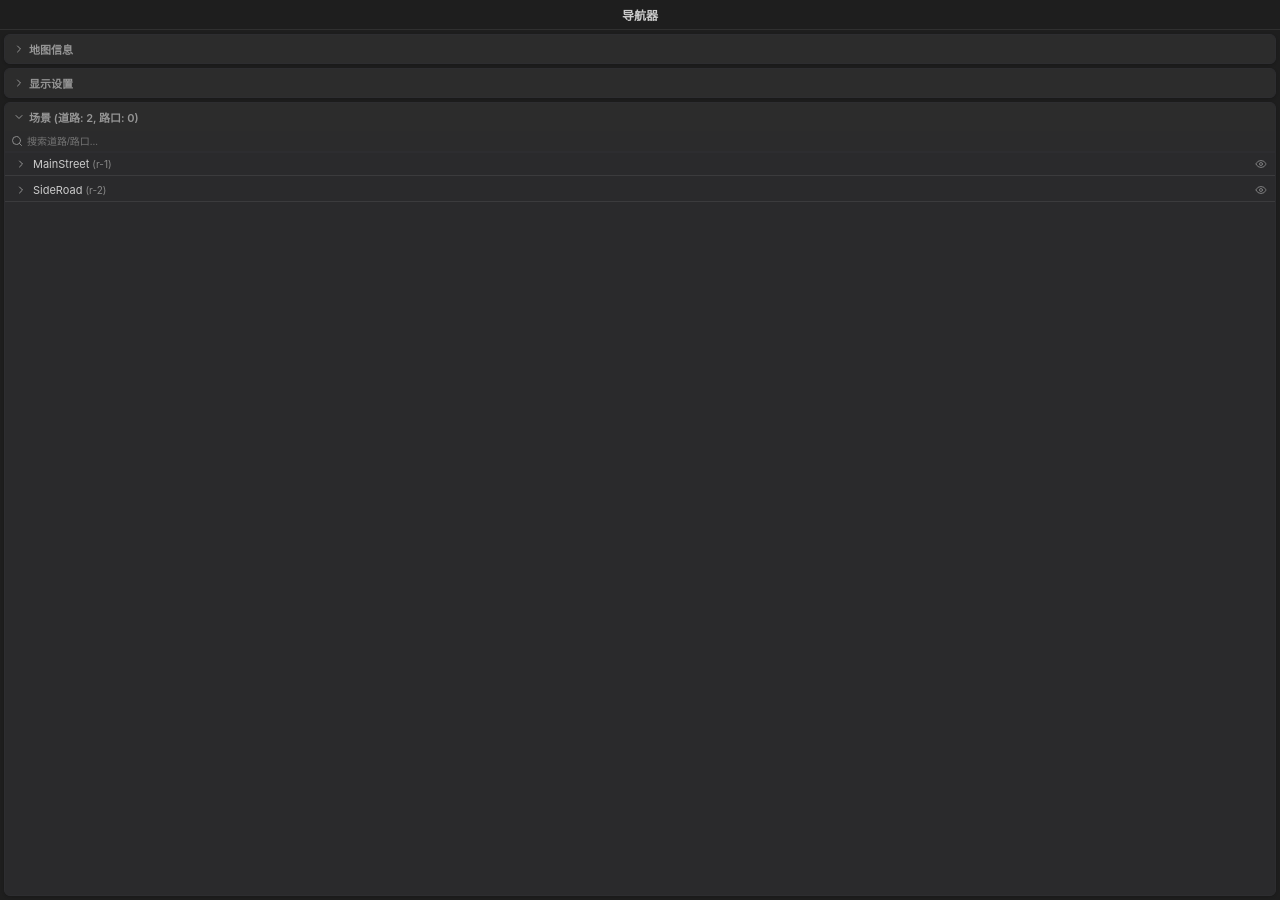
LayerPanel › filters roads by name (case-insensitive)
Type "main" into the field with placeholder "搜索道路/路口...". click: coordinates (648, 141)
box: [27,136,1269,146]
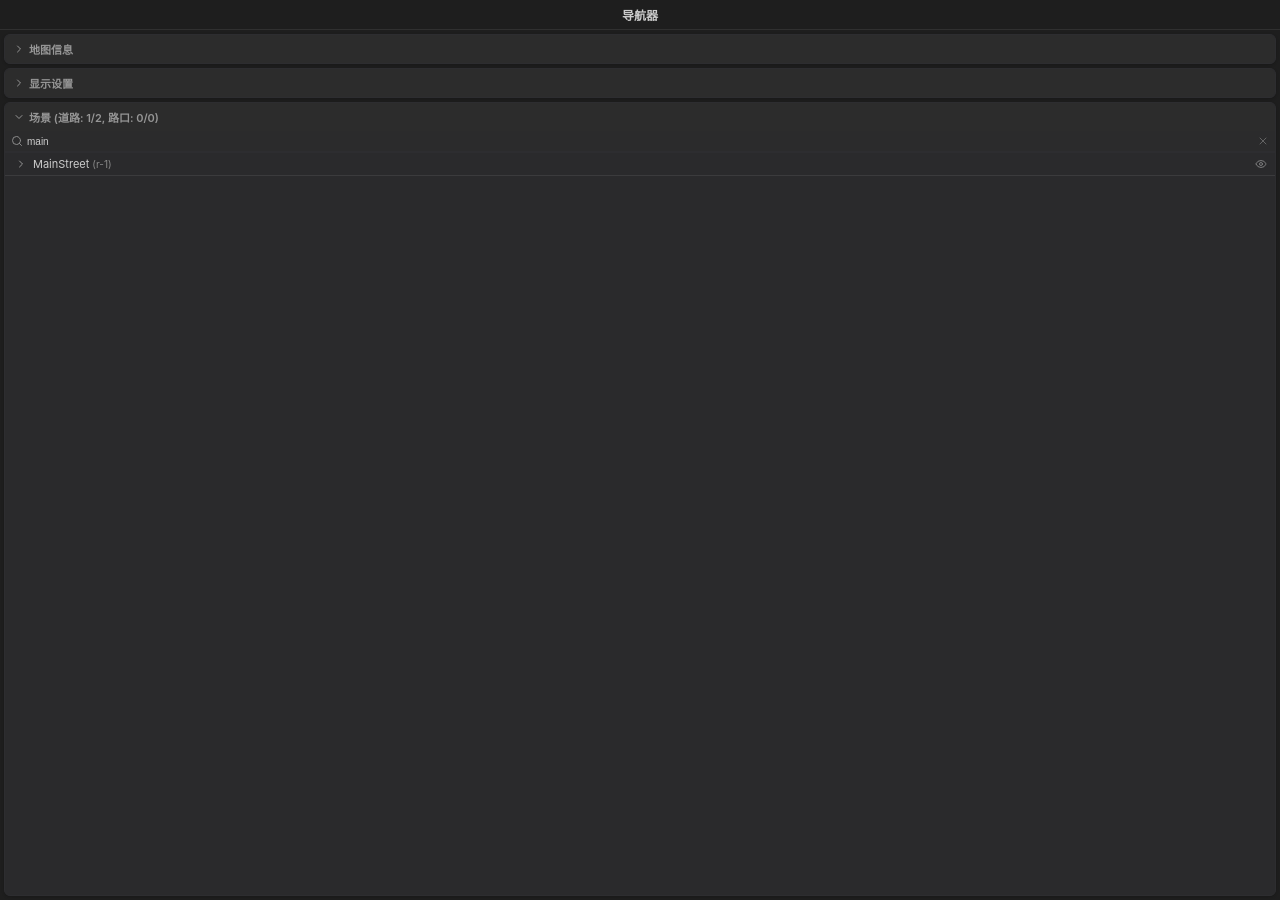
Expected: the text "MainStreet" is shown, [33,157,89,171]
Expected: the text "SideRoad" is gone
